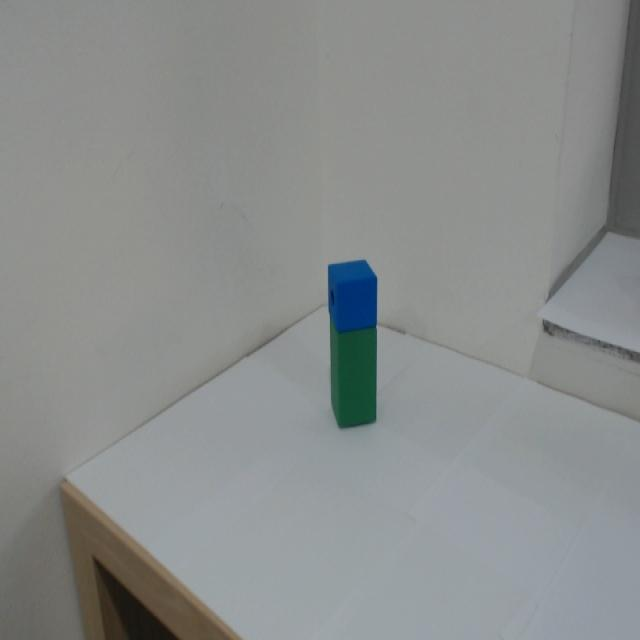cube: (298, 232, 391, 330)
